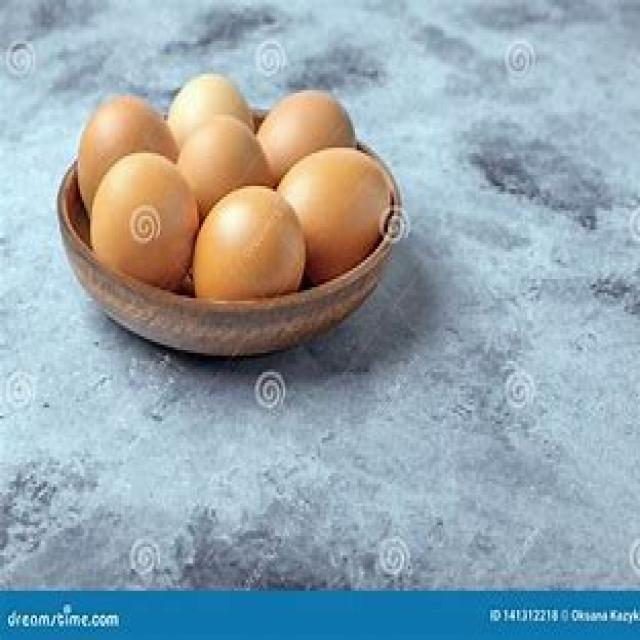Brown Egg: (195, 183, 307, 316), (288, 150, 406, 262), (91, 154, 194, 280), (70, 89, 173, 186), (177, 116, 279, 204), (262, 78, 344, 171), (168, 70, 254, 149)
